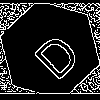D: (25, 25, 83, 83)
